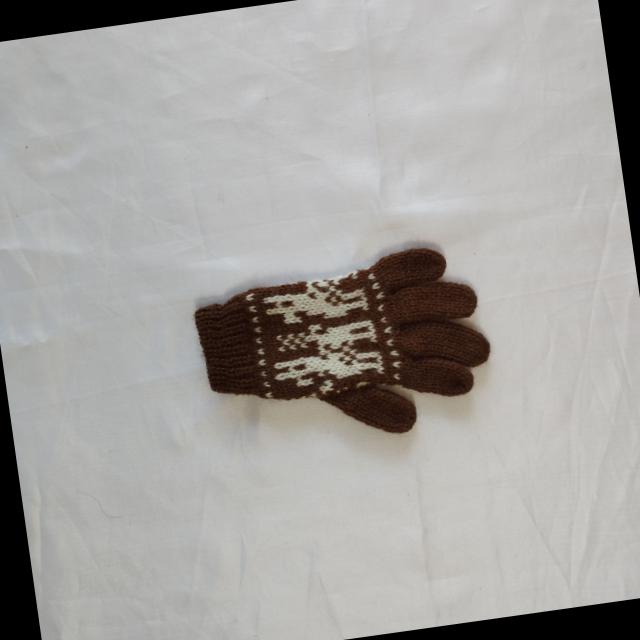Guante: (188, 238, 502, 461)
